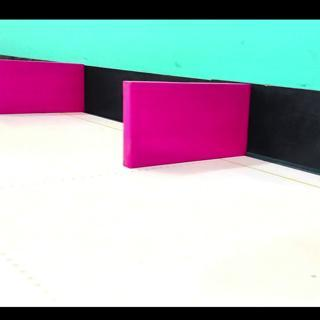xparking: (128, 83, 250, 169), (1, 64, 84, 113)
